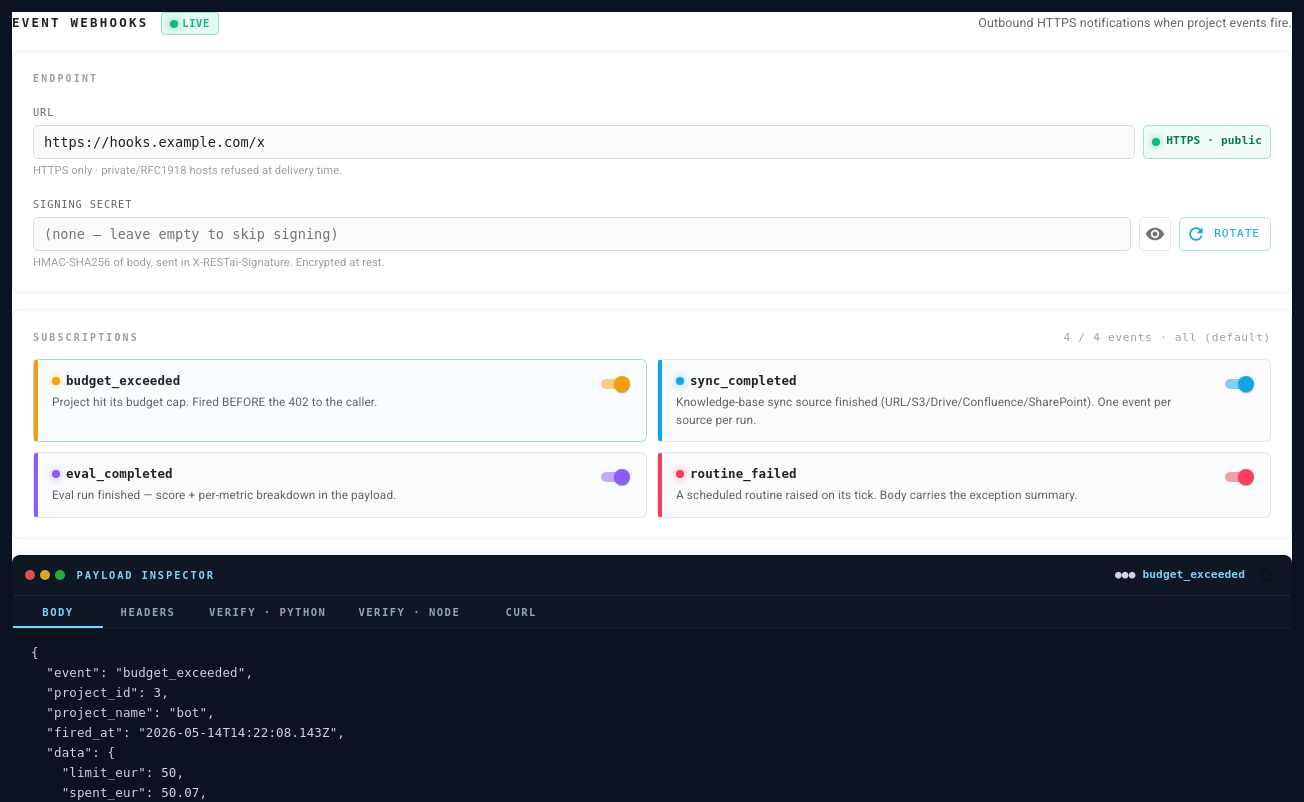
Test: ProjectEditWebhooks › rotate secret stores the minted value and warns to capture it
This screenshot has width=1304, height=802.
Click the button "rotate" at (1225, 234), box [1179,217,1271,251]
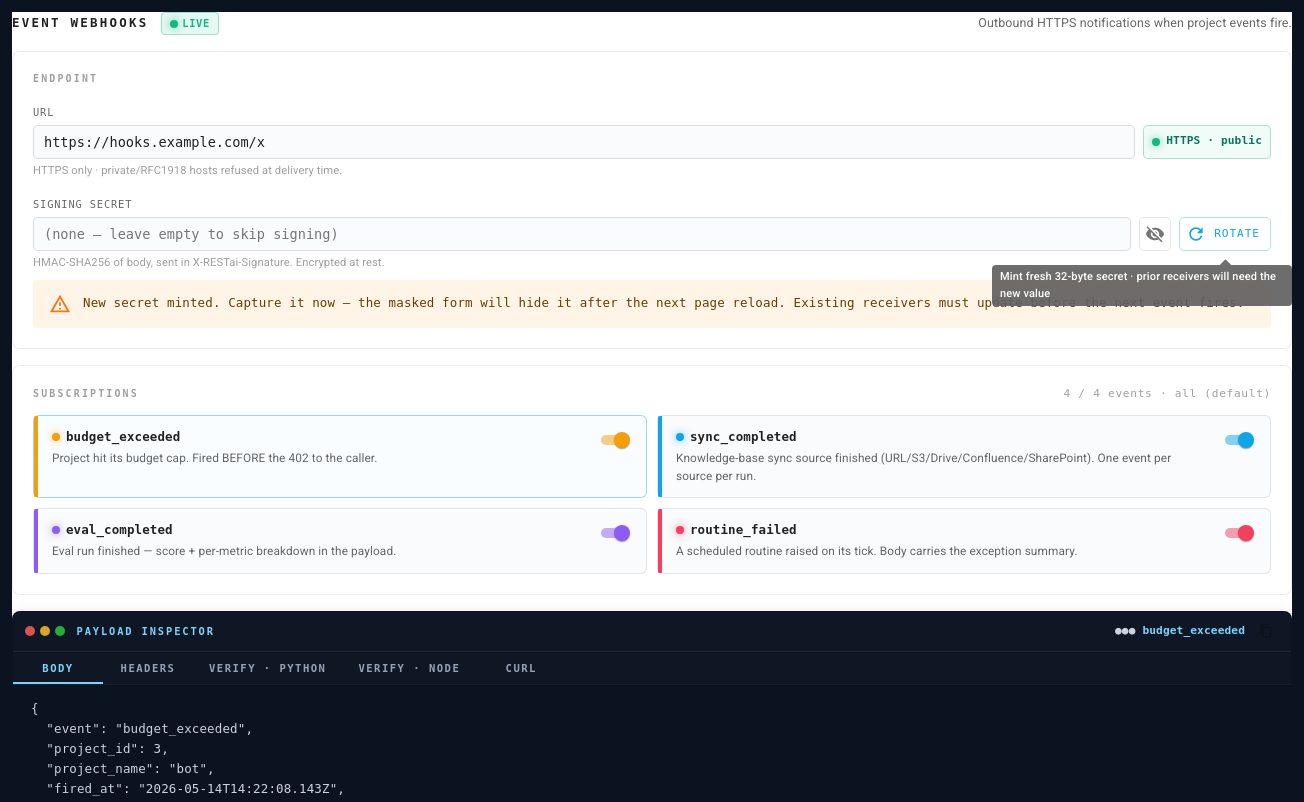
Expected: the text "New secret minted" is shown, [83,295,1244,310]
